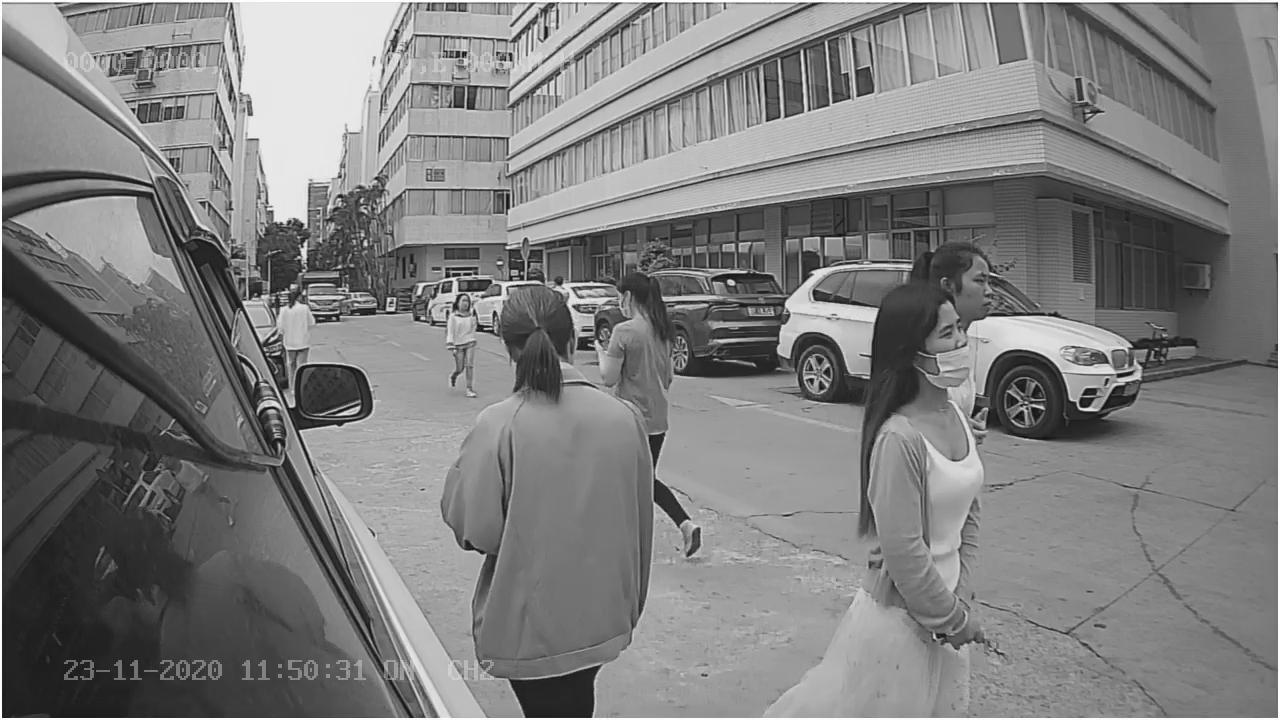person: (857, 285, 1002, 645)
